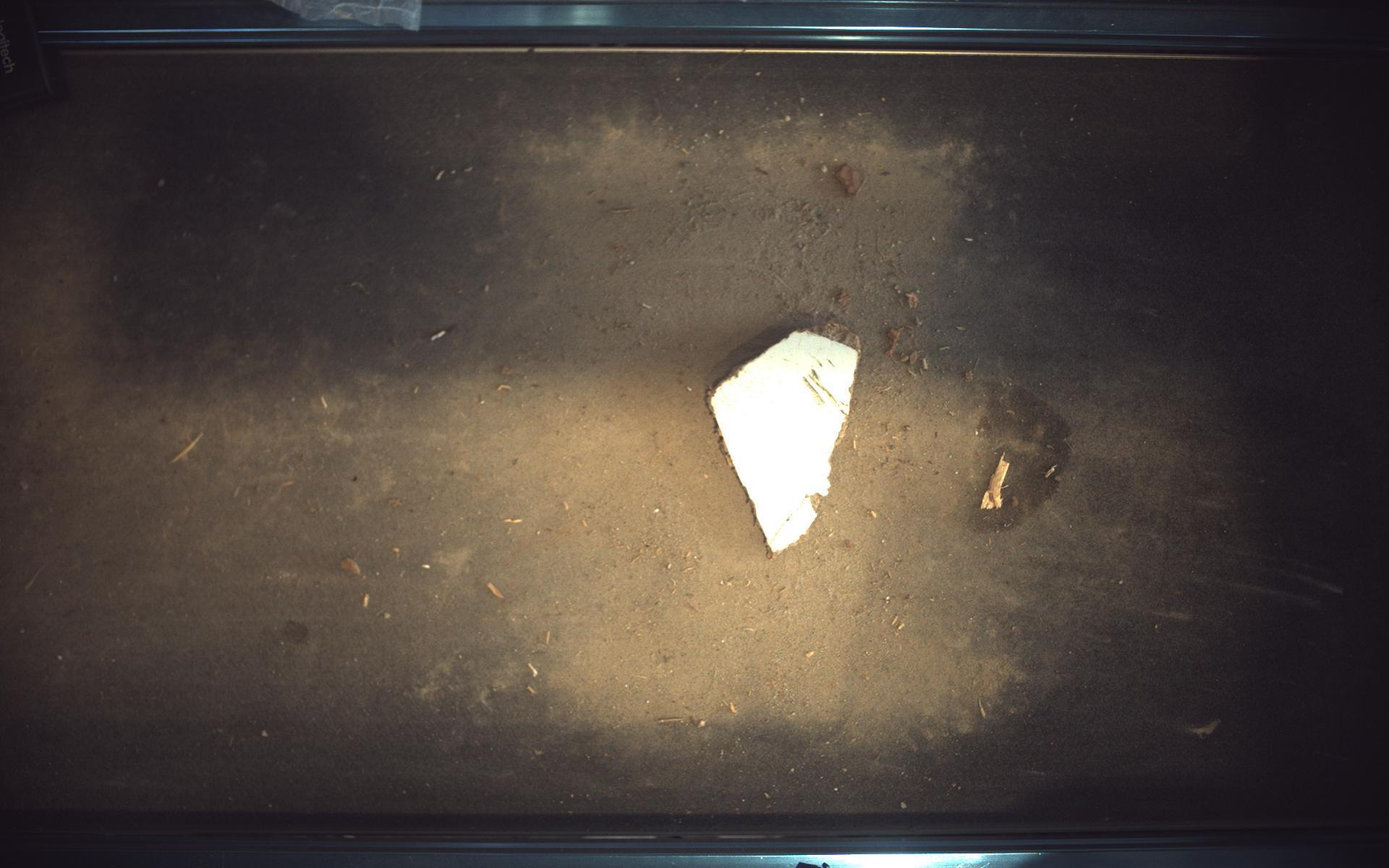wood: (710, 320, 862, 553)
